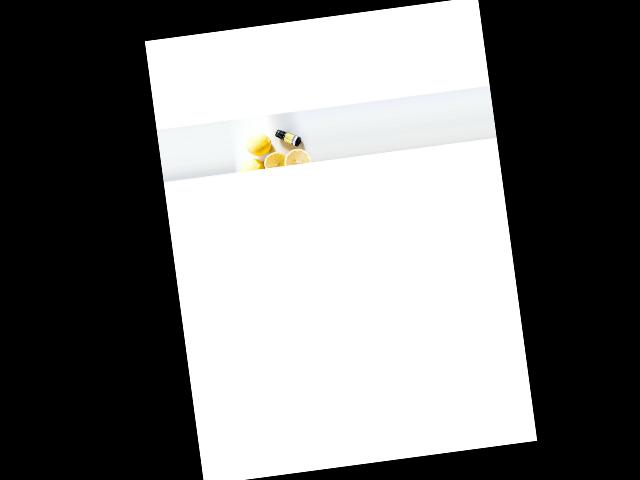lemon: (244, 134, 272, 155)
